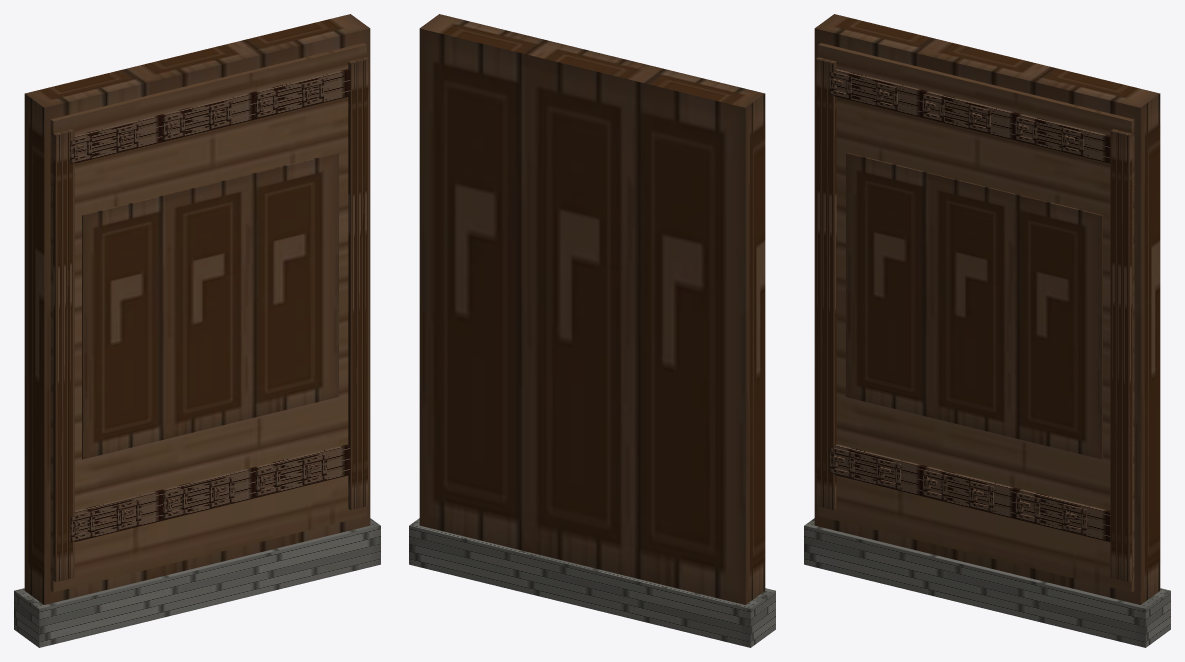
File: ae_duel_wood_wall_panel_lod0.glb
The picture shows the model from 3 angles, left to right: view 1: azimuth 30°, elevation 25°; view 2: azimuth 150°, elevation 25°; view 3: azimuth 330°, elevation 25°; orthographic projection.
Parts seen in each view (by area): view 1: ae_duel_wood_wall_panel_lod0; view 2: ae_duel_wood_wall_panel_lod0; view 3: ae_duel_wood_wall_panel_lod0.
Part boxes in pixels (x1,y1,x2,y2): ae_duel_wood_wall_panel_lod0: (14, 14, 380, 647); ae_duel_wood_wall_panel_lod0: (409, 14, 775, 647); ae_duel_wood_wall_panel_lod0: (804, 14, 1170, 647).
Bounding box in the file's own units: 2.2 × 3.3 × 0.3231.
1 material, 1 textured.
